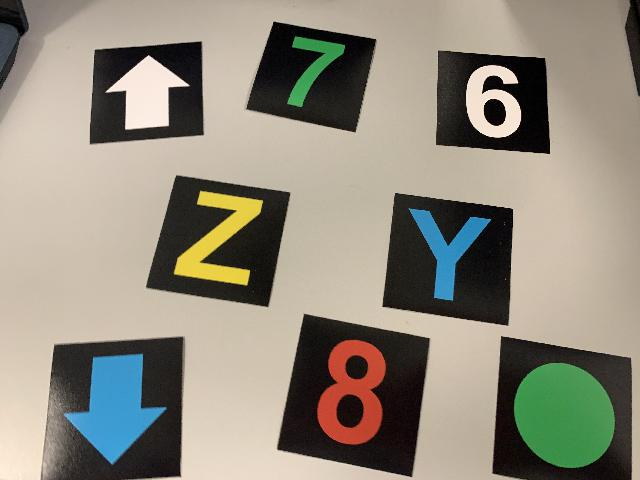alphabet_y: (382, 188, 515, 326)
alphabet_z: (144, 173, 292, 311)
down_arrow: (40, 334, 186, 480)
eight: (278, 311, 431, 477)
go: (491, 334, 633, 478)
seven: (247, 20, 378, 135)
six: (435, 52, 551, 156)
up_arrow: (88, 40, 205, 147)
